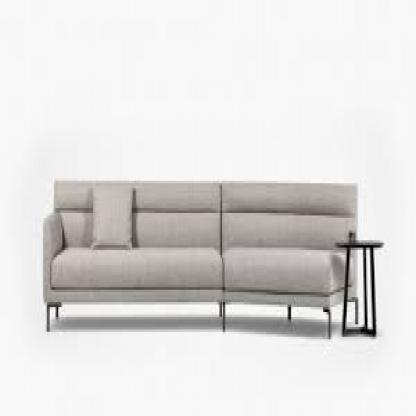sofa: (36, 171, 392, 334)
